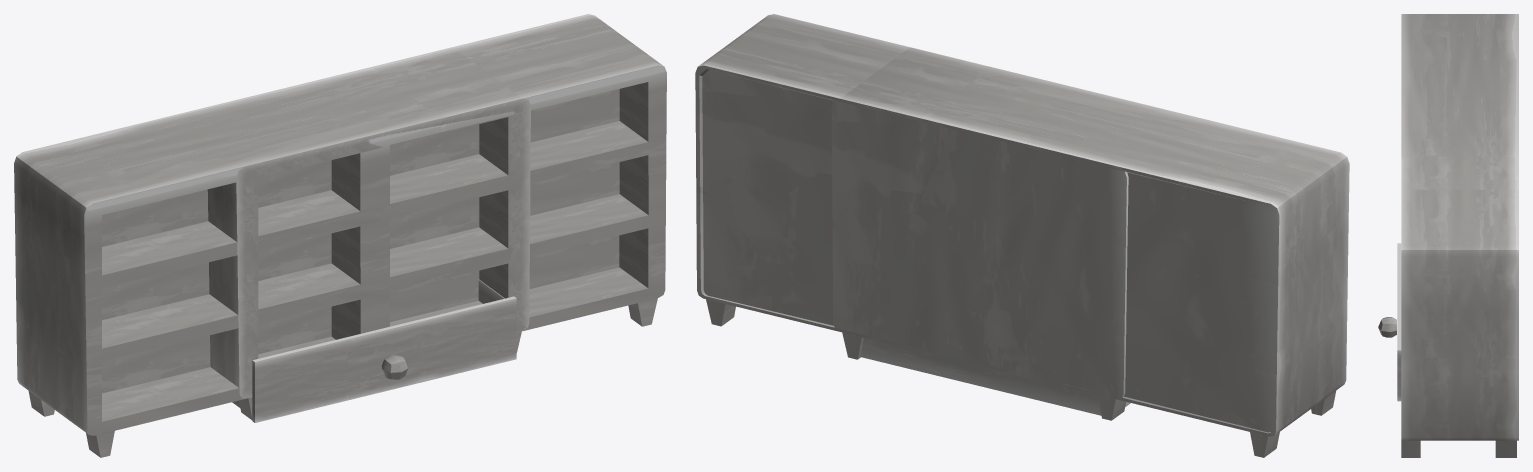
The model's file is drawerfurniture.fbx.
3 views of the same model, side by side, from view 1: azimuth 30°, elevation 25°; view 2: azimuth 150°, elevation 25°; view 3: azimuth 270°, elevation 25° (orthographic). The views are drawn at different scales.
Visible parts, largest first — view 1: 2, 1, single_empty; view 2: 2, 1, single_empty; view 3: 2, 1, single_empty.
Part boxes in pixels (x1=…): 2: x1=14, y1=14, x2=666, y2=457; 1: x1=207, y1=47, x2=530, y2=419; single_empty: x1=232, y1=279, x2=516, y2=422; 2: x1=695, y1=14, x2=1349, y2=457; 1: x1=831, y1=47, x2=1128, y2=420; single_empty: x1=860, y1=338, x2=1130, y2=415; 2: x1=1401, y1=14, x2=1518, y2=457; 1: x1=1401, y1=135, x2=1518, y2=189; single_empty: x1=1378, y1=243, x2=1401, y2=401.
Size of the model in its own units: 172 by 72.7 by 43.04.
